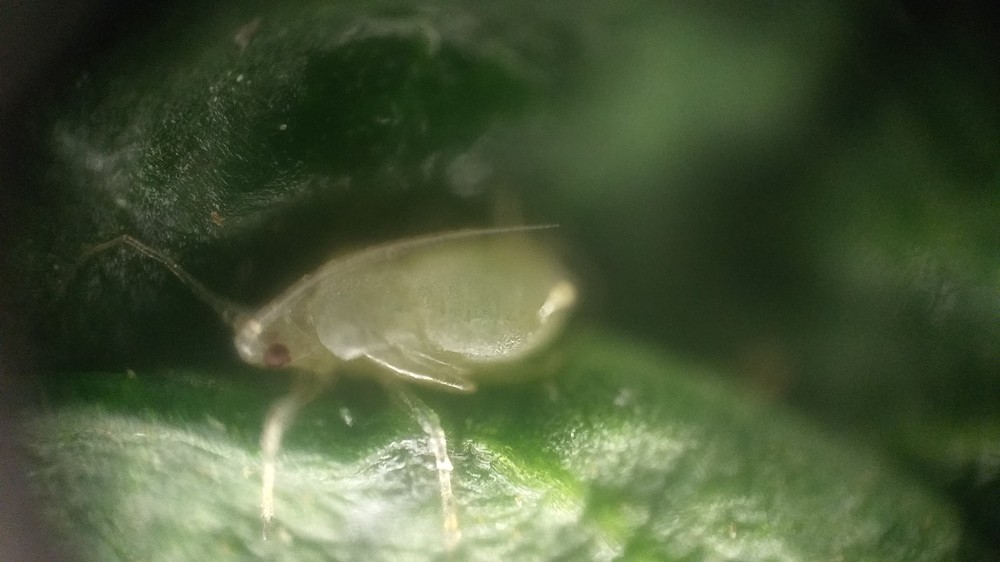Pulgon: (139, 184, 623, 531)
